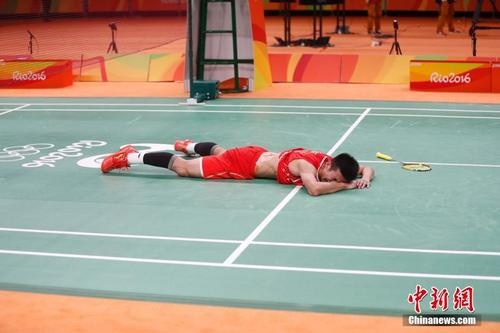falling: (93, 128, 370, 198)
